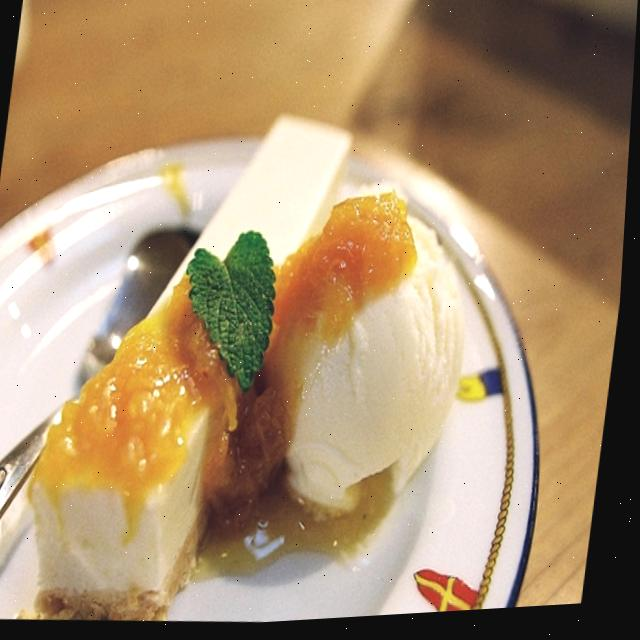蛋糕甜品: (0, 61, 573, 640)
